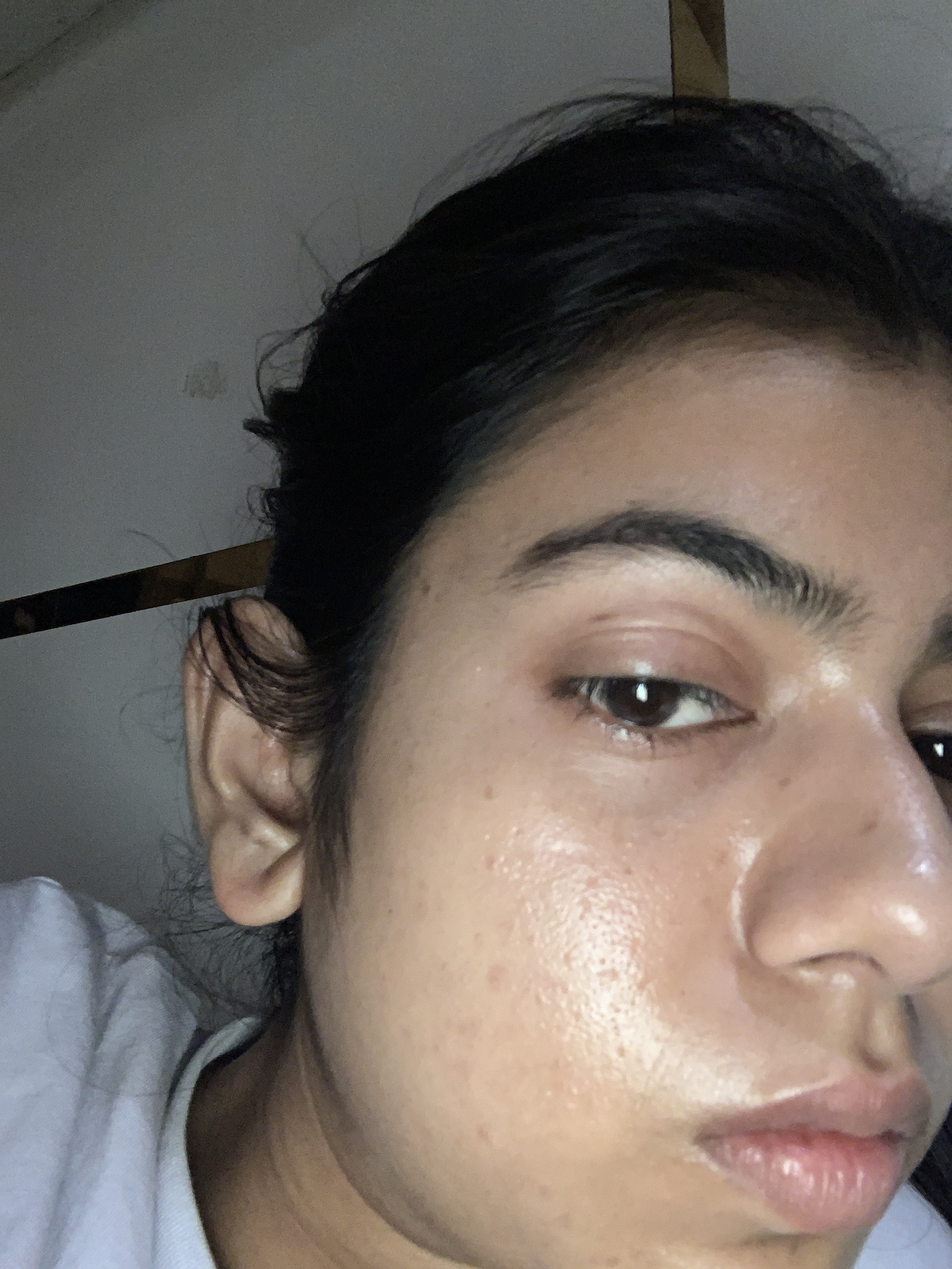closed_comedone: (773, 363, 825, 401), (784, 488, 829, 527), (543, 1084, 585, 1110), (828, 401, 848, 419)
